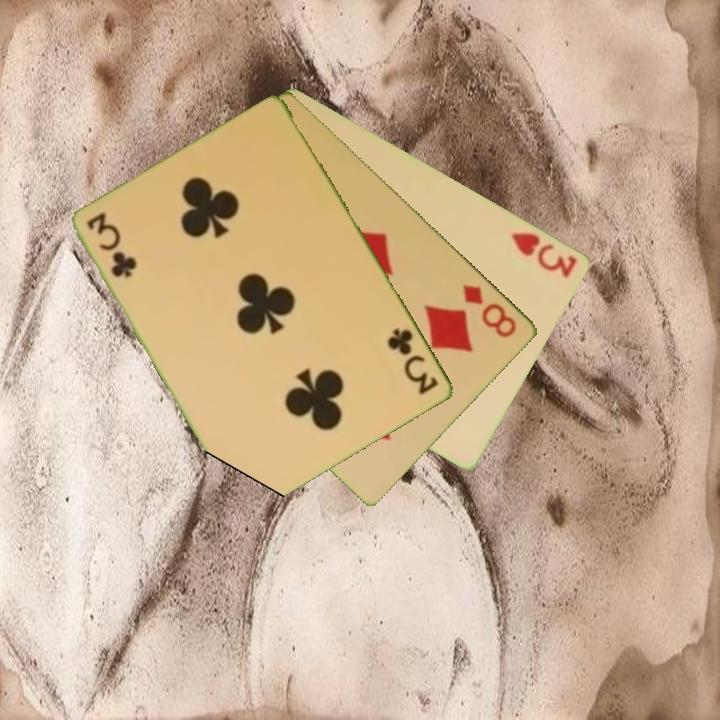3c: (384, 324, 442, 398), (84, 208, 139, 281)
3h: (508, 228, 581, 281)
8d: (459, 280, 520, 341)
